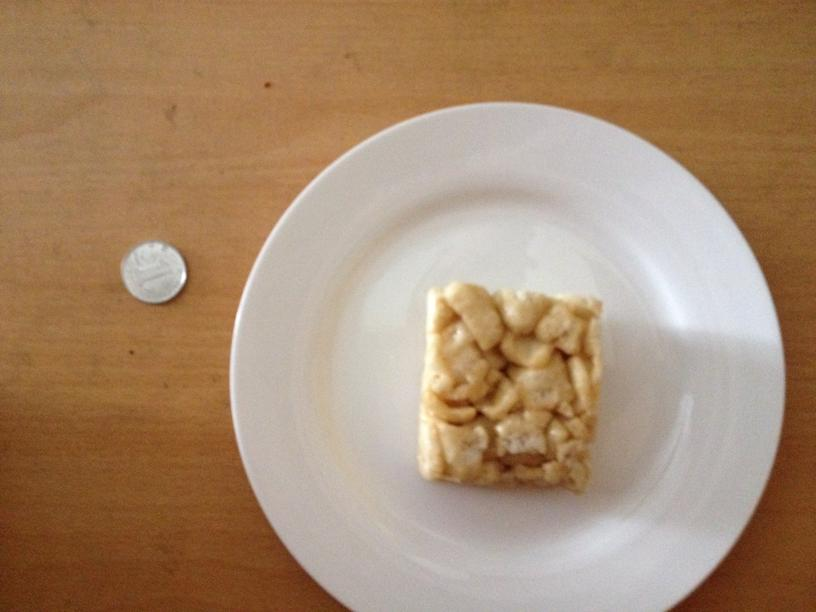coin: (115, 241, 187, 302)
sachima: (416, 284, 595, 488)
